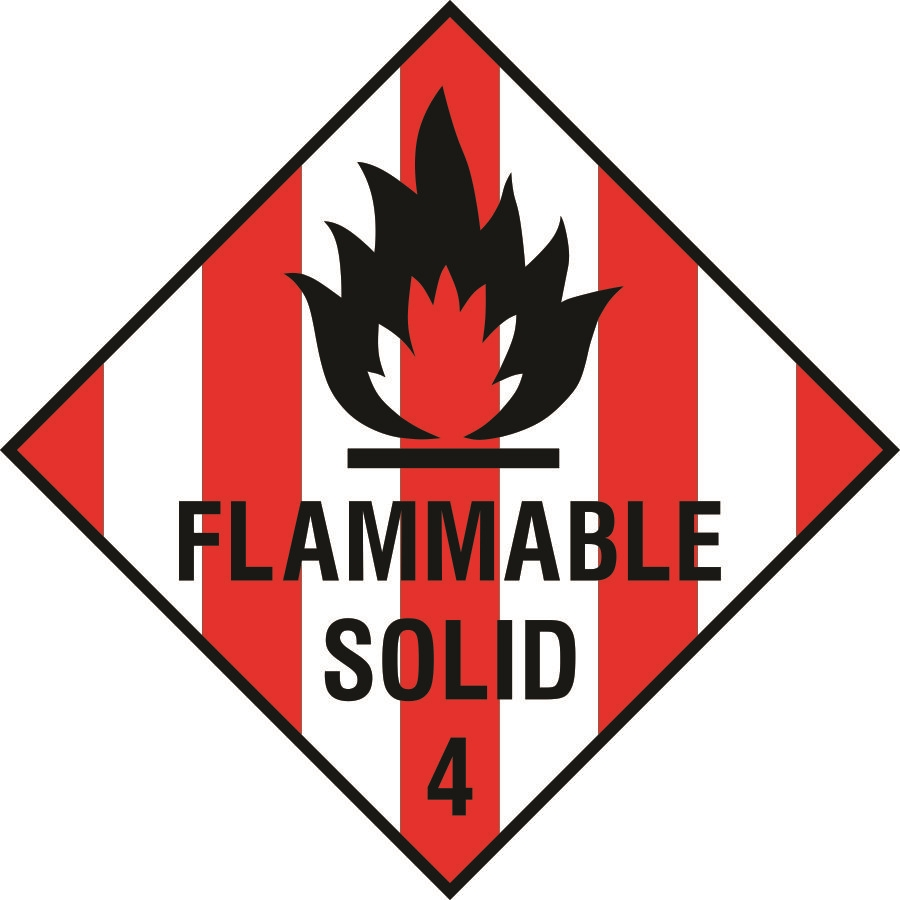FlammableSolid: (10, 31, 900, 872)
